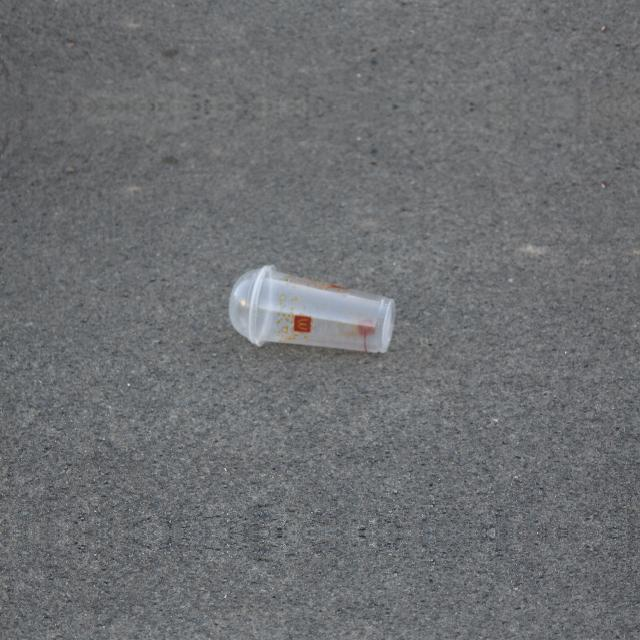Plastic: (228, 262, 396, 354)
